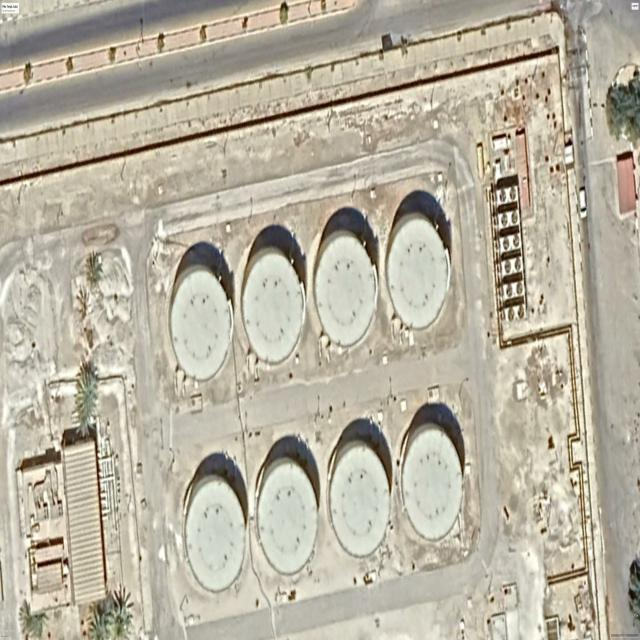Oil Rafinery: (242, 247, 305, 364), (314, 231, 377, 347), (401, 423, 462, 541), (387, 214, 449, 329), (170, 266, 232, 380), (257, 458, 317, 574), (329, 443, 390, 557), (185, 476, 245, 591)
